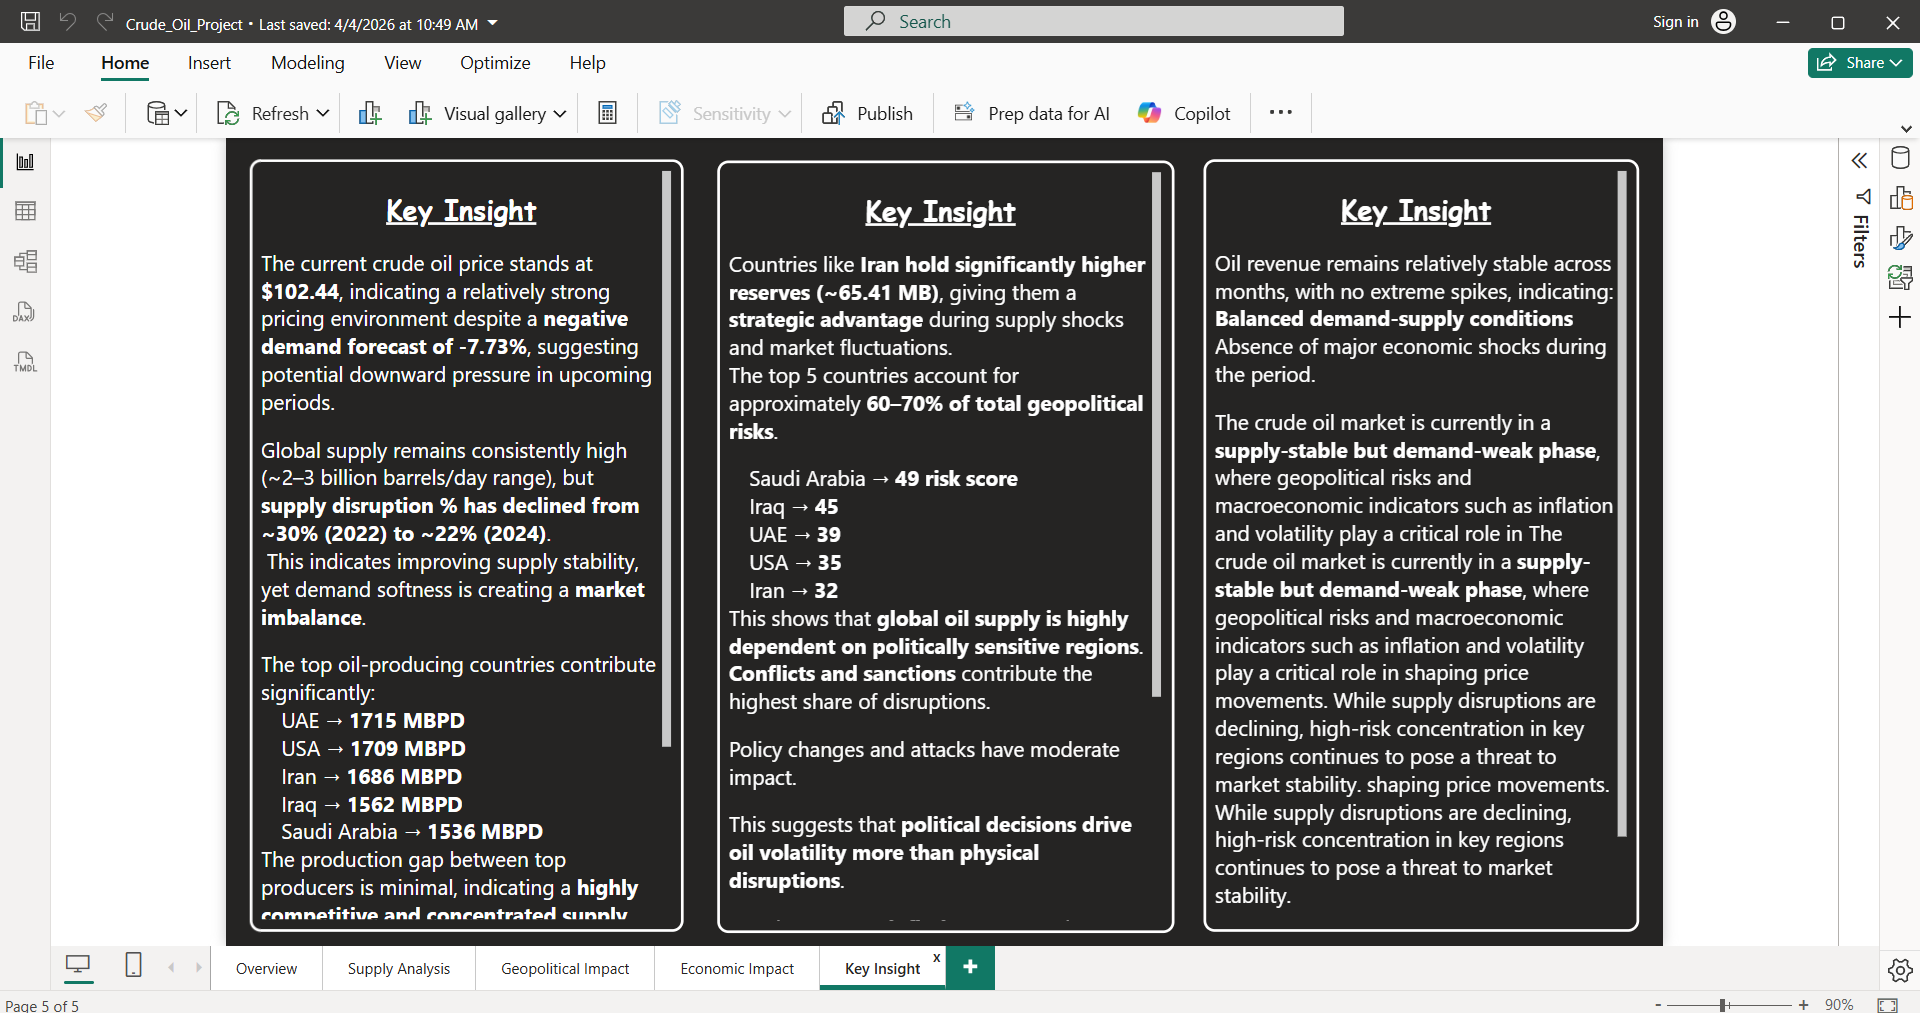

This screenshot's page, from the dashboard's own definition file:
{"tool":"powerbi","page":{"name":"Key Insight","canvas":[1280,720],"ordinal":4},"visuals":[{"type":"textbox","box":[21.6,18.8,386.7,688.2],"z":0},{"type":"textbox","box":[437.2,20.2,406.9,688.2],"z":1},{"type":"textbox","box":[870,18.8,388.1,688.2],"z":2}]}

Visuals, with their boxes on the page's 1280x720 design canvas (x1, y1, x2, y2). These are canvas units, not pixel positions in the 1920x1013 screenshot, which may show the page scaled, cropped or inside an application window:
textbox: 22,19,408,707
textbox: 437,20,844,708
textbox: 870,19,1258,707
